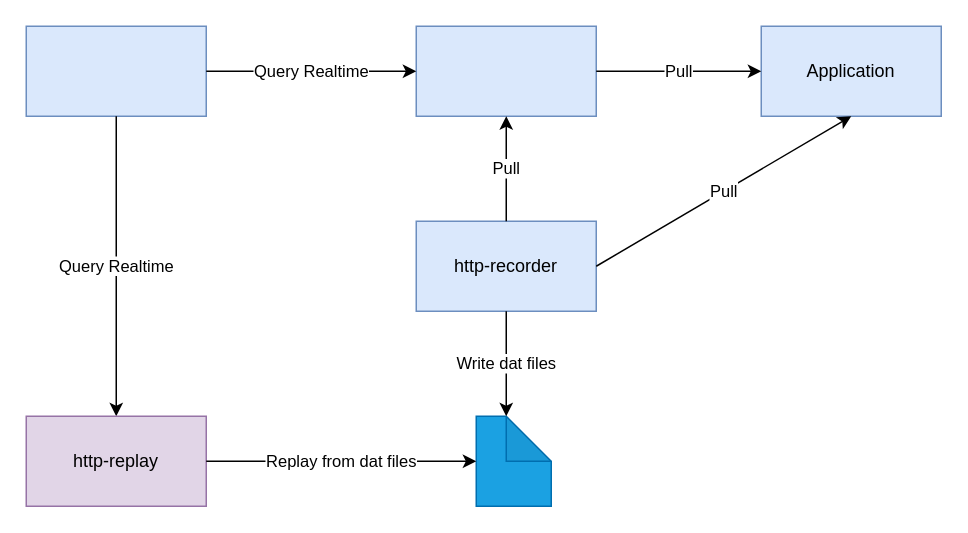
Image size: 968x533. Some labels were removed from this diagram. Here are the shapes that lost their labels. From the top down, the centre of each, then its label:
At point (115, 70): "Visualization ie. Grafana, etc".
At point (505, 70): "Prometheus".
